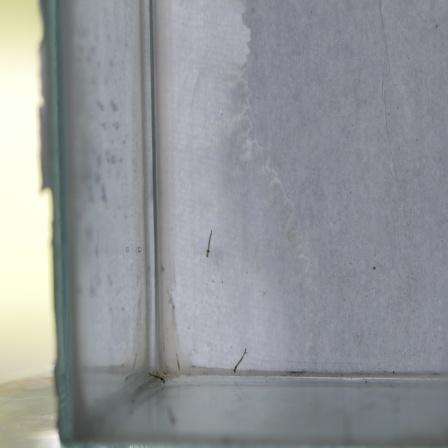Jentik-Nyamuk: (143, 368, 171, 388), (231, 346, 250, 375), (204, 228, 219, 262)
